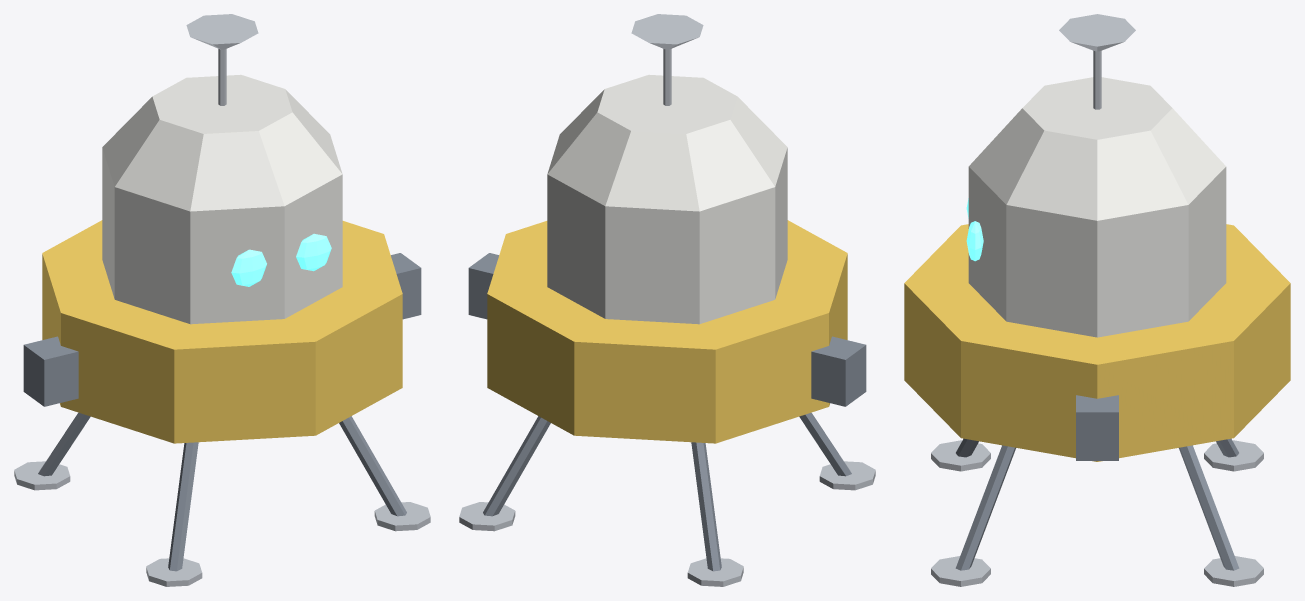
The model's file is vehicle_moon.glb.
3 views of the same model, side by side, from view 1: azimuth 30°, elevation 25°; view 2: azimuth 150°, elevation 25°; view 3: azimuth 270°, elevation 25° (orthographic). The views are drawn at different scales.
Parts seen in each view (by area): view 1: vehicle_moon; view 2: vehicle_moon; view 3: vehicle_moon.
Boxes of the visible parts, x1,y1,x2,y2 form: vehicle_moon: (14,14,430,586); vehicle_moon: (459,14,875,586); vehicle_moon: (904,14,1290,586).
Size of the model in its own units: 1.67 by 2 by 1.43.
